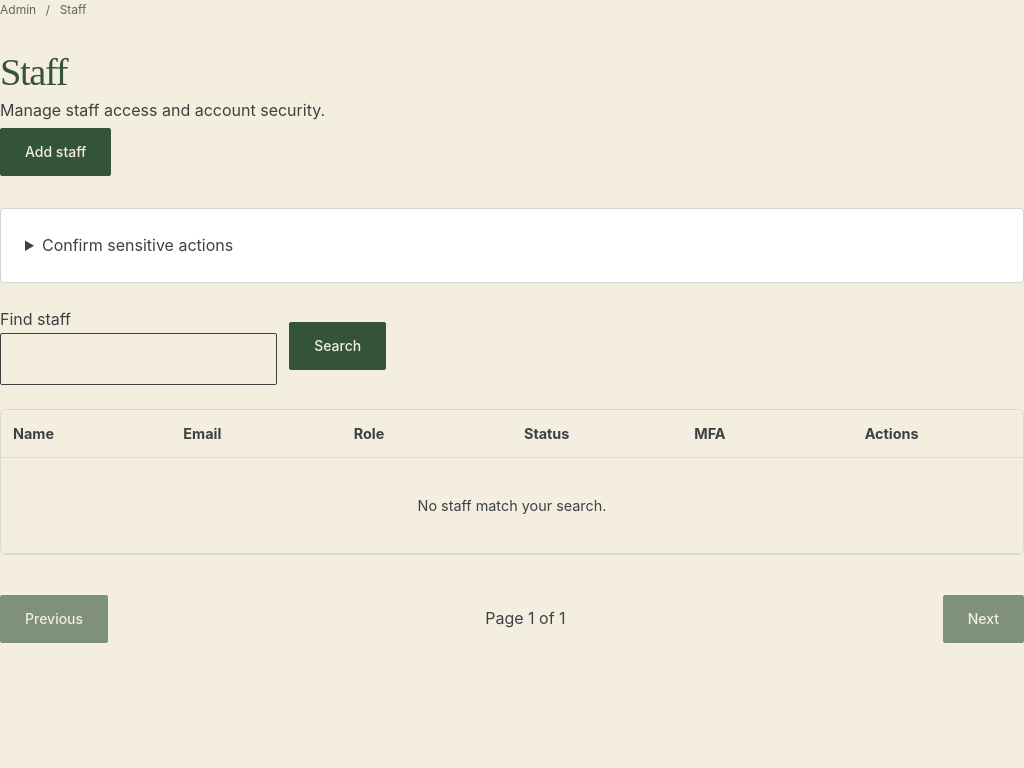
Test case: does not promise setup email when the local sink cannot deliver
The width and height of the screenshot is (1024, 768).
Click the button "Add staff": (56, 152) [0,128,111,176]
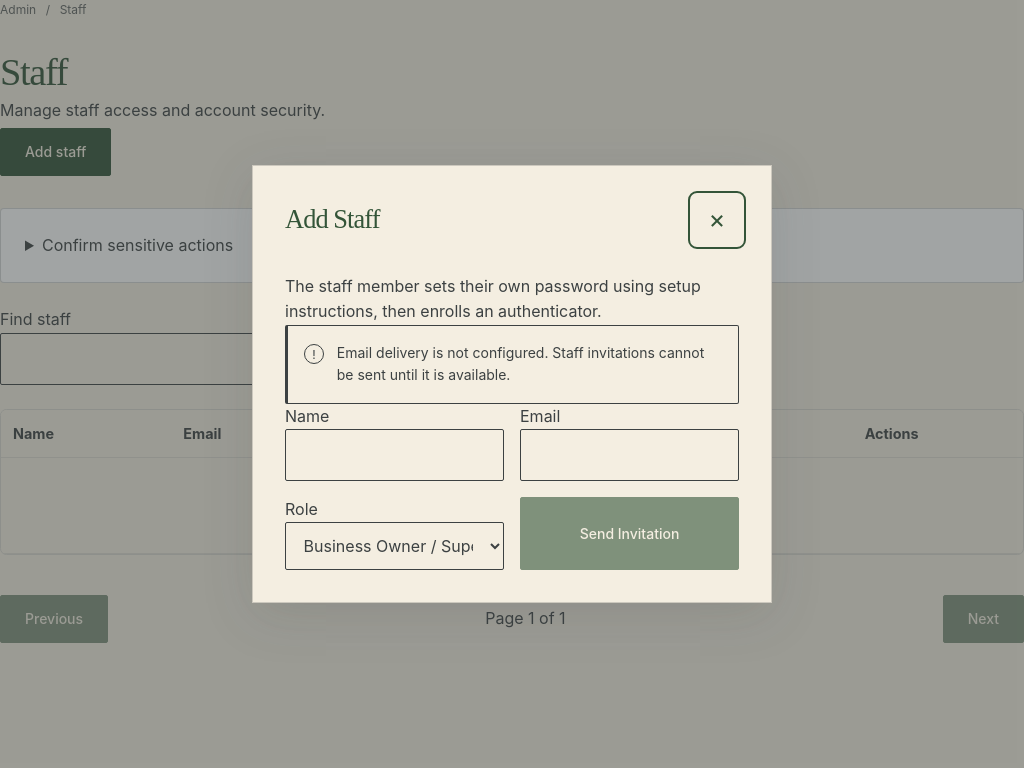
Expected: the button "Send Invitation" is disabled, [520,497,739,570]
Expected: the text "Email delivery is not configured" is shown, [337,344,704,383]
